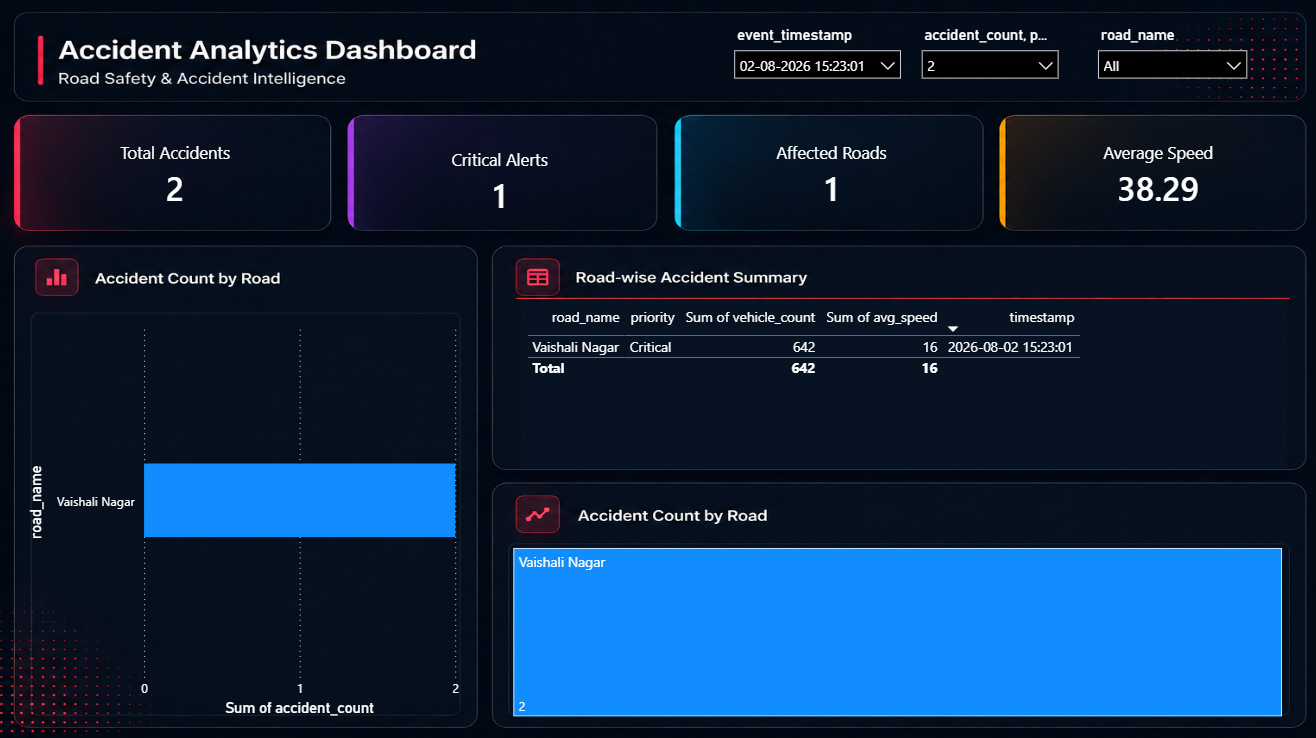

What the dashboard file says about the page in this screenshot:
{"tool":"powerbi","page":{"name":"Accident Intelligence Dashboard","canvas":[1280,720],"ordinal":2},"visuals":[{"type":"slicer","fields":{"Values":["gold_emergency_alerts.event_timestamp"]},"box":[702.1,21.7,181,84.5],"z":0},{"type":"slicer","fields":{"Values":["gold_accident_hotspots.road_name"]},"box":[1053.2,21.7,164.1,72.4],"z":1000},{"type":"slicer","fields":{"Values":["gold_accident_hotspots.accident_count","gold_emergency_alerts.priority"]},"box":[883.1,21.7,152.5,72.5],"z":2000},{"type":"cardVisual","fields":{"Data":["Table.Total Accidents"]},"box":[25.3,114.6,295.6,113.4],"z":3000},{"type":"cardVisual","fields":{"Data":["Table.Affected Roads"]},"box":[658.7,114.6,295.6,113.4],"z":4000},{"type":"cardVisual","fields":{"Data":["Table.Critical Alerts"]},"box":[336.6,114.6,299.2,126.7],"z":5000},{"type":"cardVisual","fields":{"Data":["Table.Average Speed"]},"box":[977.2,114.6,289.5,113.4],"z":6000},{"type":"clusteredBarChart","fields":{"Category":["gold_accident_hotspots.road_name"],"Y":["Sum(gold_accident_hotspots.accident_count)"]},"box":[25.3,305.2,427.1,393.3],"z":7000},{"type":"tableEx","fields":{"Values":["gold_emergency_alerts.road_name","gold_emergency_alerts.priority","Sum(gold_emergency_alerts.vehicle_count)","Sum(gold_emergency_alerts.avg_speed)","gold_emergency_alerts.timestamp"]},"box":[506.7,292,739.5,161.7],"z":8000},{"type":"treemap","fields":{"Values":["Sum(gold_accident_hotspots.accident_count)"],"Group":["gold_accident_hotspots.road_name"]},"box":[494.6,526,751.6,172.5],"z":9000}]}

Visuals, with their boxes in screenshot pixels (x1, y1, x2, y2), scaled from the page's 1280x720 canvas onto the 1316x738 screenshot:
slicer - gold_emergency_alerts.event_timestamp: {"left": 722, "top": 22, "right": 908, "bottom": 109}
slicer - gold_accident_hotspots.road_name: {"left": 1083, "top": 22, "right": 1252, "bottom": 96}
slicer - gold_accident_hotspots.accident_count x gold_emergency_alerts.priority: {"left": 908, "top": 22, "right": 1065, "bottom": 97}
cardVisual - Table.Total Accidents: {"left": 26, "top": 117, "right": 330, "bottom": 234}
cardVisual - Table.Affected Roads: {"left": 677, "top": 117, "right": 981, "bottom": 234}
cardVisual - Table.Critical Alerts: {"left": 346, "top": 117, "right": 654, "bottom": 247}
cardVisual - Table.Average Speed: {"left": 1005, "top": 117, "right": 1302, "bottom": 234}
clusteredBarChart - gold_accident_hotspots.road_name x Sum(gold_accident_hotspots.accident_count): {"left": 26, "top": 313, "right": 465, "bottom": 716}
tableEx - gold_emergency_alerts.road_name x gold_emergency_alerts.priority: {"left": 521, "top": 299, "right": 1281, "bottom": 465}
treemap - Sum(gold_accident_hotspots.accident_count) x gold_accident_hotspots.road_name: {"left": 509, "top": 539, "right": 1281, "bottom": 716}
